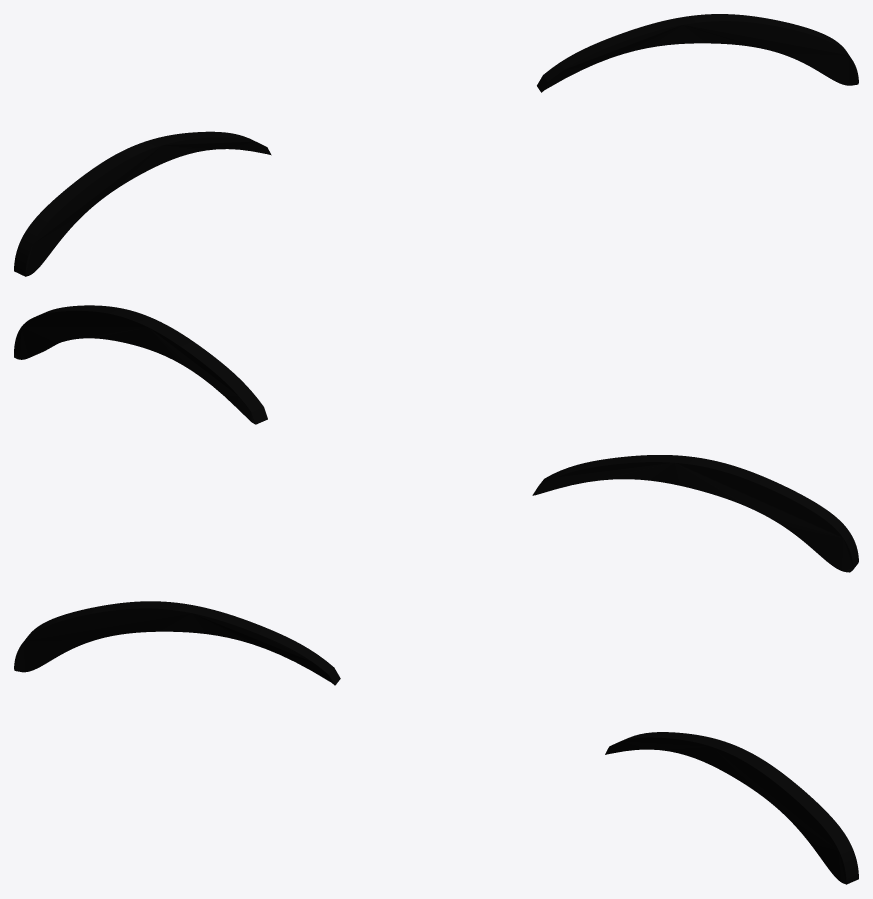
The model's file is EyeBrow.obj.
3 renders of one model, top to bottom at view 1: azimuth 30°, elevation 25°; view 2: azimuth 150°, elevation 25°; view 3: azimuth 330°, elevation 25°, orthographic. The views are drawn at different scales.
Visible parts, largest first — view 1: 眉毛.002; view 2: 眉毛.002; view 3: 眉毛.002.
Part boxes in pixels (x1=…): 眉毛.002: x1=14, y1=14, x2=858, y2=276; 眉毛.002: x1=14, y1=305, x2=858, y2=572; 眉毛.002: x1=14, y1=601, x2=858, y2=884.
Bounding box in the file's own units: 0.4217 × 0.0401 × 0.047.
1 material, 1 textured.
